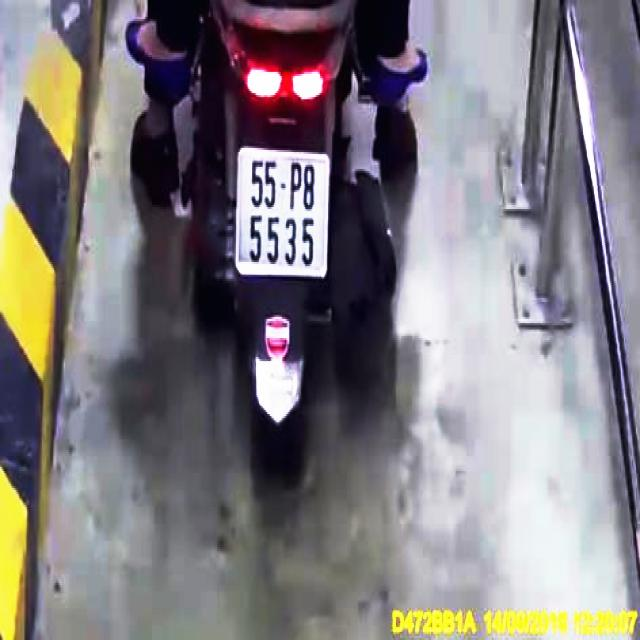license_plate: (238, 149, 332, 276)
